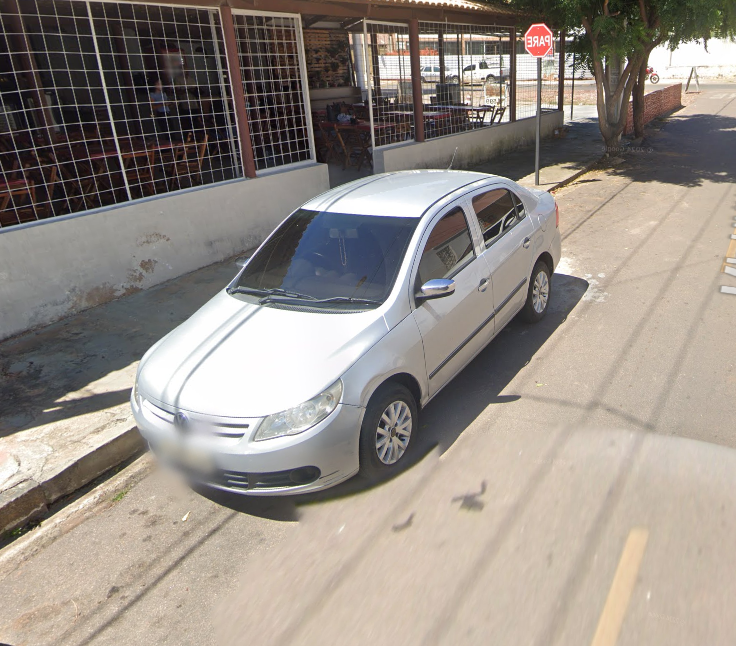car: (118, 144, 586, 510)
